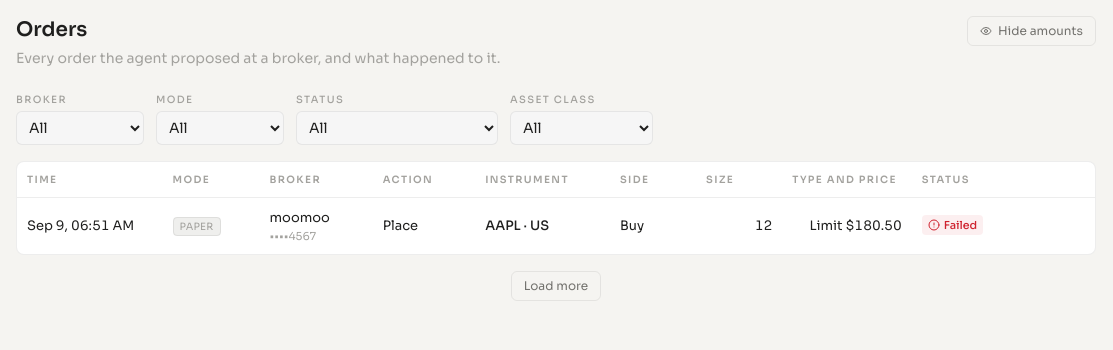
Test: the orders page › keeps the orders already read when a later page fails
The image size is (1113, 350).
What coordinates should you click on to do the following:
click the button "Load more"
I would click on:
 (556, 286)
Its box is [511,271,601,301].
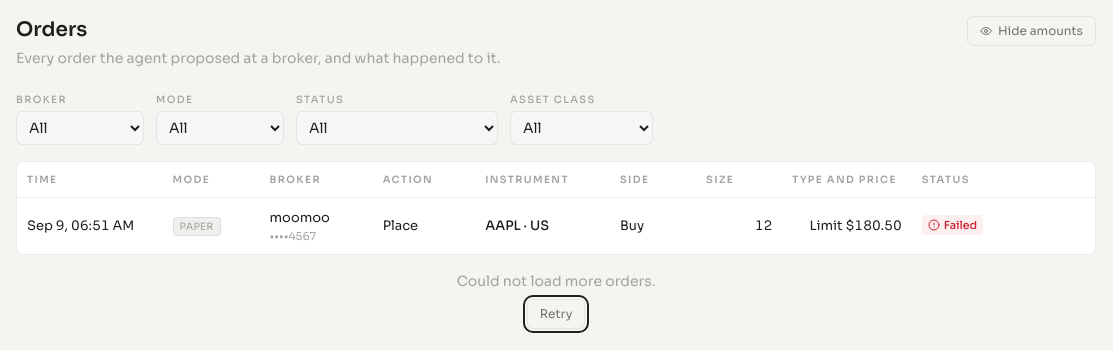
Now the text "Could not load more orders." is shown, box [457,271,655,291]
Now the button "Retry" is shown, box [527,299,585,329]
